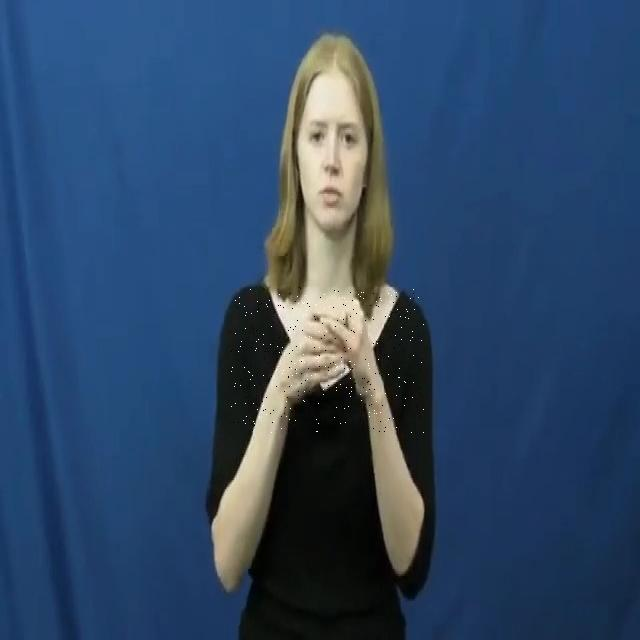additional: (230, 287, 424, 433)
